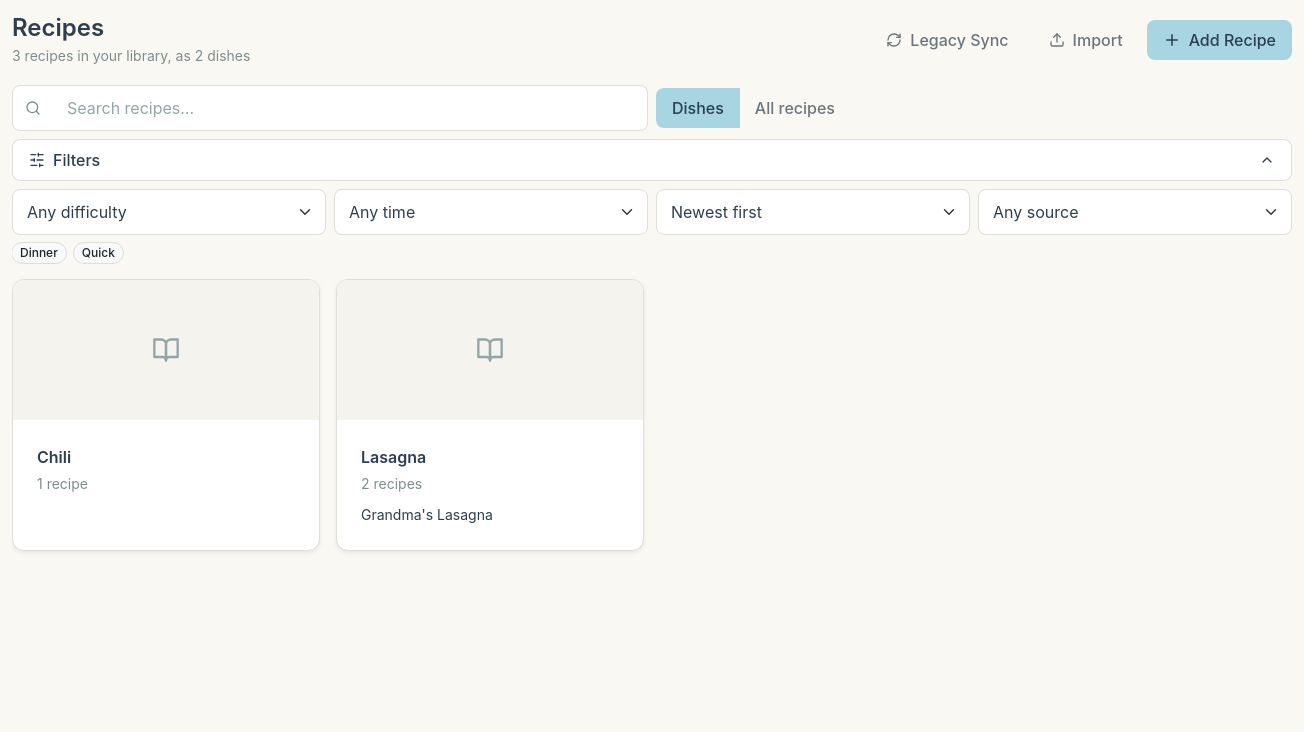
Test: Recipes page — dishes › opens a one-recipe dish straight into its recipe, and links a recipe back to its dish
This screenshot has width=1304, height=732.
Click the button "Chili".
click(54, 457)  # box x1=37 y1=445 x2=71 y2=469
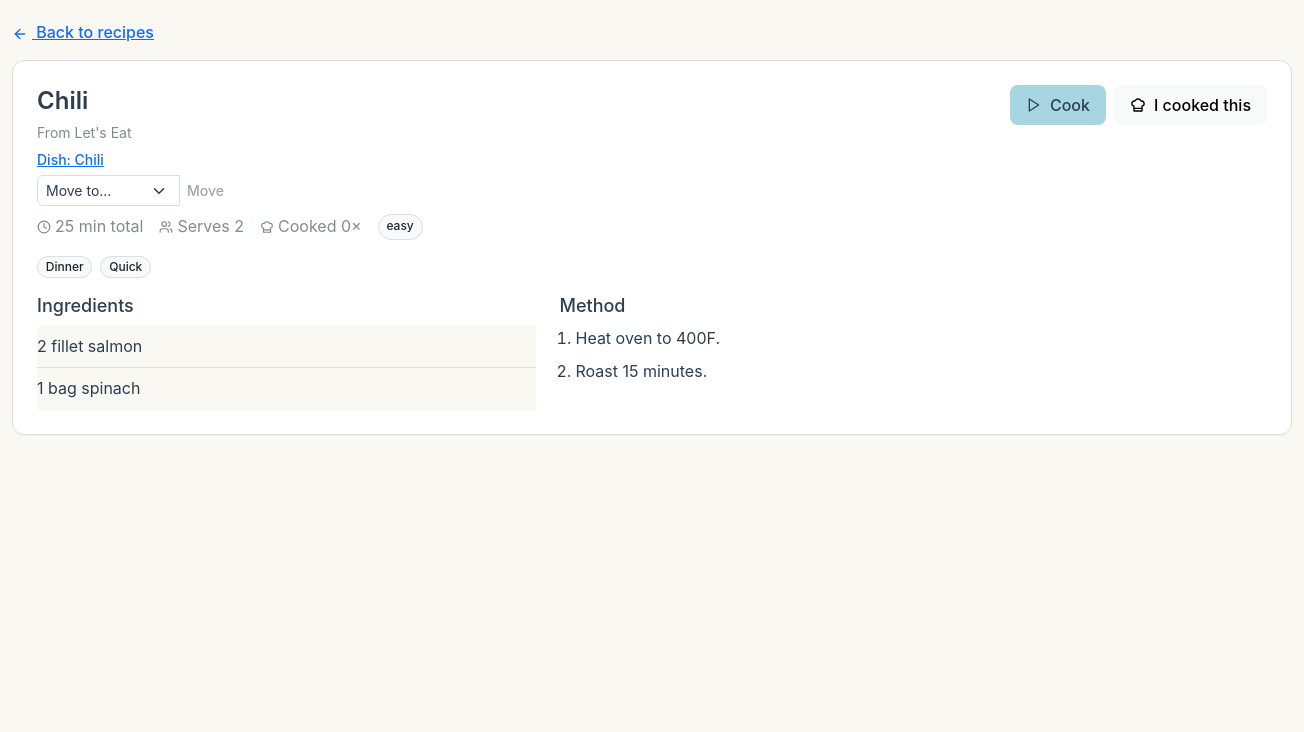
Result: the heading "Chili" is shown at x1=37 y1=86 x2=88 y2=115
